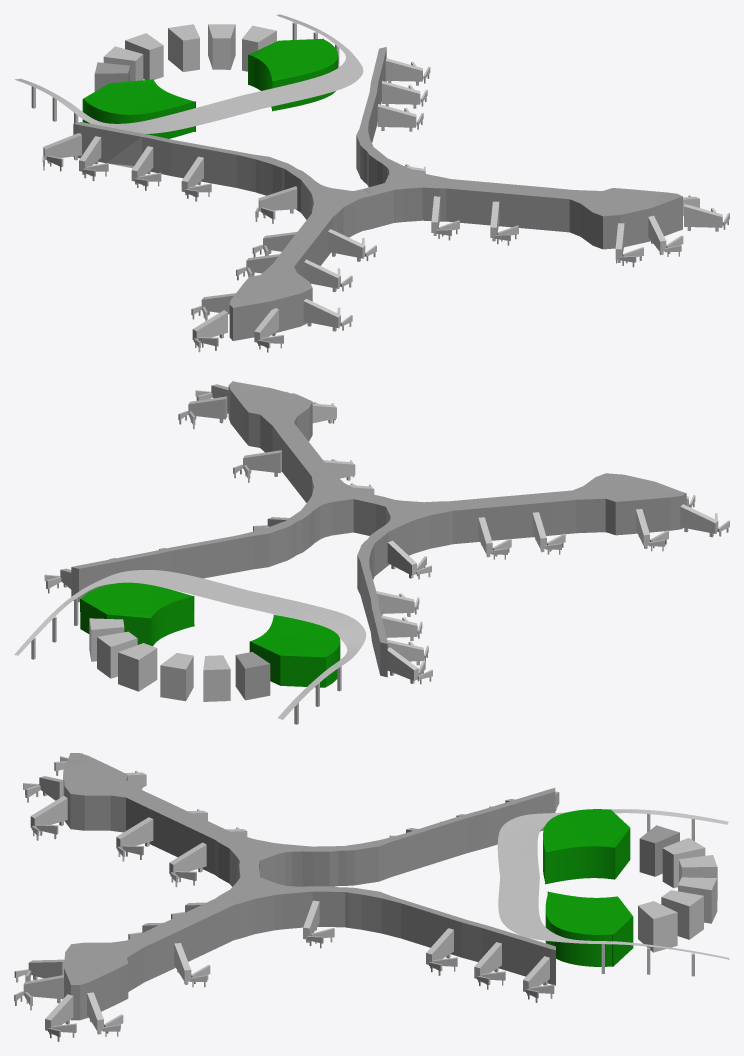
File: T2Terminal.obj
3 views of the same model, one above another, from view 1: azimuth 30°, elevation 25°; view 2: azimuth 150°, elevation 25°; view 3: azimuth 270°, elevation 25° (orthographic). The views are drawn at different scales.
Visible parts, largest first — view 1: Cube.006_Cube.009, Cube.000, Cylinder.003_Cylinder.016, Plane, Plane.001, Cube.003_Cube.004, Cube.004_Cube.005, Cube_Cube.001, Cube.026_Cube.068, Cube.022_Cube.064, Cube.030_Cube.072, Cube.020_Cube.062 (+20 smaller); view 2: Cube.006_Cube.009, Cube.000, Cylinder.003_Cylinder.016, Plane, Plane.001, Cube.003_Cube.004, Cube.002_Cube.003, Cube_Cube.001, Cube.001_Cube.002, Cube.004_Cube.005, Cube.012_Cube.054, Cube.022_Cube.064 (+10 smaller); view 3: Cube.006_Cube.009, Cube.000, Cylinder.003_Cylinder.016, Plane.001, Plane, Cube.005_Cube.006, Cube.004_Cube.005, Cube.002_Cube.003, Cube.001_Cube.002, Cube.020_Cube.062, Cube.003_Cube.004, Cube.018_Cube.060 (+12 smaller).
Part boxes in pixels (x1=…): Cube.006_Cube.009: x1=356, y1=47, x2=682, y2=249; Cube.000: x1=73, y1=122, x2=372, y2=340; Cylinder.003_Cylinder.016: x1=14, y1=14, x2=363, y2=133; Plane: x1=248, y1=38, x2=338, y2=111; Plane.001: x1=82, y1=79, x2=195, y2=138; Cube.003_Cube.004: x1=168, y1=24, x2=199, y2=71; Cube.004_Cube.005: x1=208, y1=24, x2=235, y2=69; Cube_Cube.001: x1=125, y1=33, x2=163, y2=79; Cube.026_Cube.068: x1=255, y1=186, x2=297, y2=223; Cube.022_Cube.064: x1=192, y1=310, x2=227, y2=352; Cube.030_Cube.072: x1=42, y1=133, x2=81, y2=171; Cube.020_Cube.062: x1=303, y1=299, x2=352, y2=331; Cube.006_Cube.009: x1=71, y1=381, x2=384, y2=602; Cube.000: x1=357, y1=473, x2=686, y2=677; Cylinder.003_Cylinder.016: x1=14, y1=570, x2=366, y2=719; Plane: x1=80, y1=582, x2=194, y2=646; Plane.001: x1=249, y1=615, x2=340, y2=687; Cube.003_Cube.004: x1=118, y1=643, x2=157, y2=691; Cube.002_Cube.003: x1=235, y1=652, x2=270, y2=700; Cube_Cube.001: x1=160, y1=653, x2=193, y2=701; Cube.001_Cube.002: x1=203, y1=655, x2=230, y2=701; Cube.004_Cube.005: x1=97, y1=631, x2=137, y2=678; Cube.012_Cube.054: x1=178, y1=396, x2=227, y2=429; Cube.022_Cube.064: x1=680, y1=504, x2=729, y2=537; Cube.006_Cube.009: x1=64, y1=866, x2=555, y2=1020; Cube.000: x1=63, y1=753, x2=555, y2=886; Cylinder.003_Cylinder.016: x1=497, y1=809, x2=729, y2=959; Plane.001: x1=543, y1=809, x2=630, y2=884; Plane: x1=545, y1=891, x2=633, y2=966; Cube.005_Cube.006: x1=638, y1=901, x2=677, y2=952; Cube.004_Cube.005: x1=661, y1=890, x2=703, y2=939; Cube.002_Cube.003: x1=639, y1=825, x2=679, y2=876; Cube.001_Cube.002: x1=662, y1=838, x2=705, y2=888; Cube.020_Cube.062: x1=30, y1=796, x2=67, y2=840; Cube.003_Cube.004: x1=678, y1=877, x2=717, y2=923; Cube.018_Cube.060: x1=169, y1=842, x2=206, y2=887.
Bounding box in the file's own units: 8.53 × 0.5922 × 9.38.
